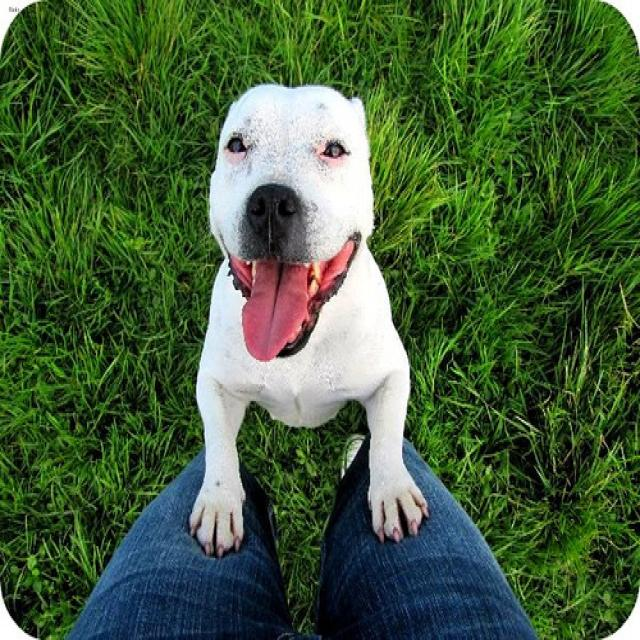dog-staffordshire_bull_terrier: (182, 72, 430, 563)
